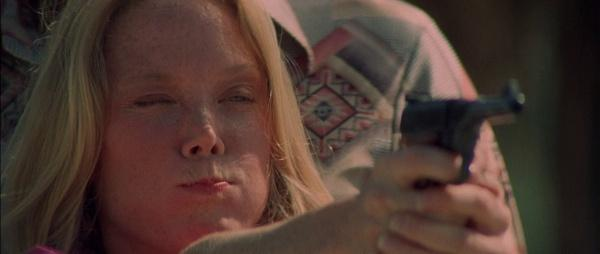Gun: (401, 84, 532, 187)
